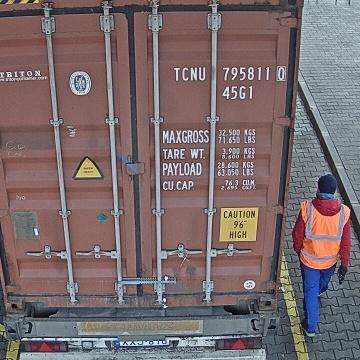serial_id: (173, 66, 285, 81)
